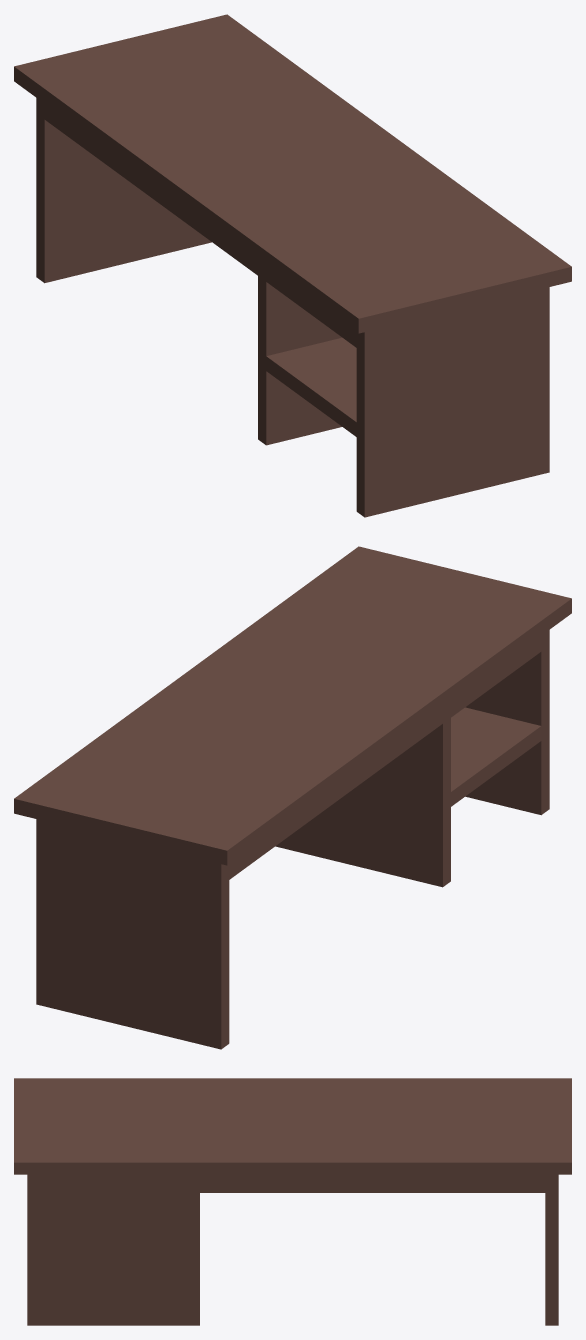
Rendered from mesavox.glb.
3 renders of one model, top to bottom at view 1: azimuth 30°, elevation 25°; view 2: azimuth 150°, elevation 25°; view 3: azimuth 270°, elevation 25°, orthographic. The views are drawn at different scales.
Size of the model in its own units: 1.5 by 1.4 by 4.2.
1 material, 1 textured.
